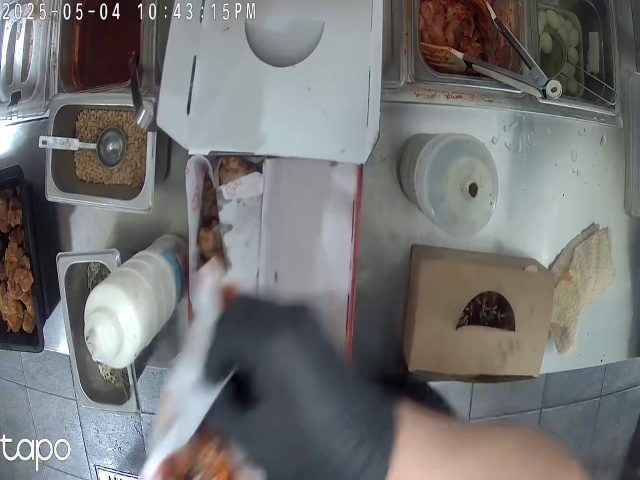closed delivery box: (419, 243, 547, 391)
delivery box: (182, 6, 359, 409)
food: (198, 159, 235, 288)
hand: (230, 301, 394, 473)
